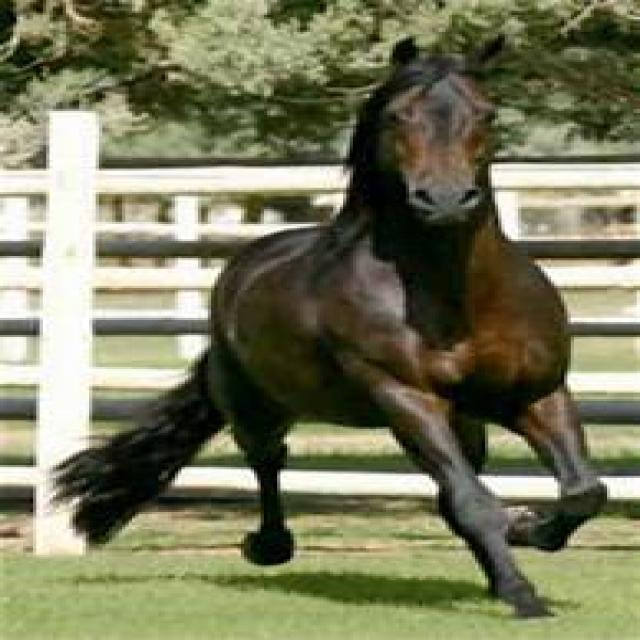horse: (60, 40, 605, 616)
